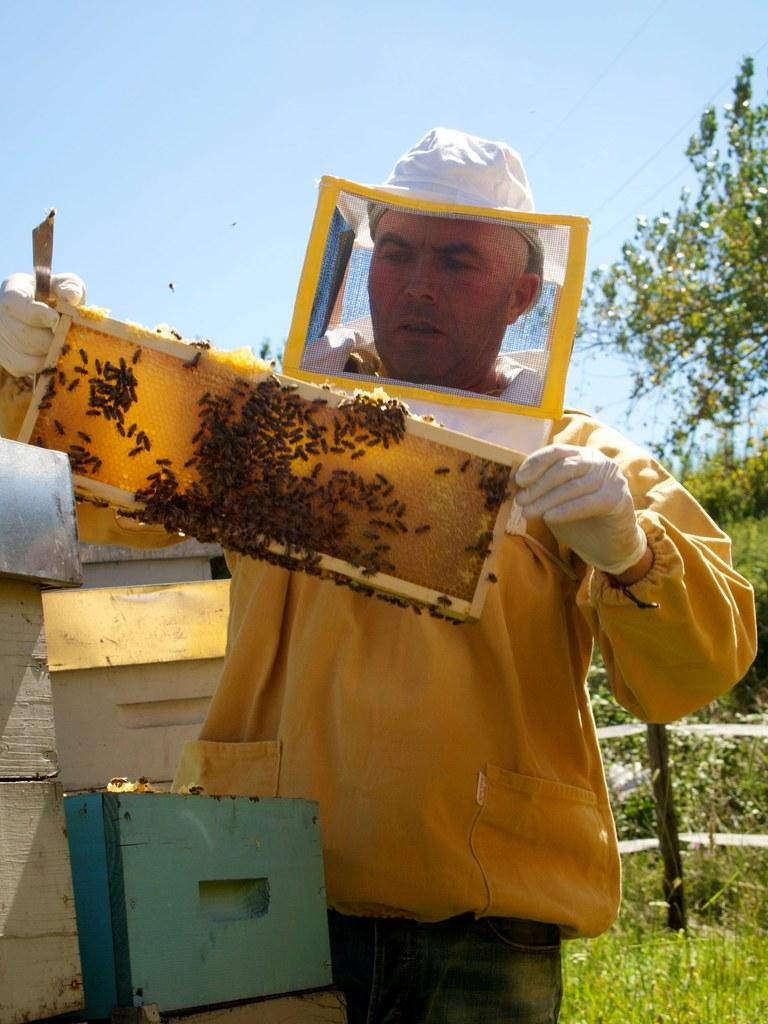Hat: (322, 116, 570, 284)
